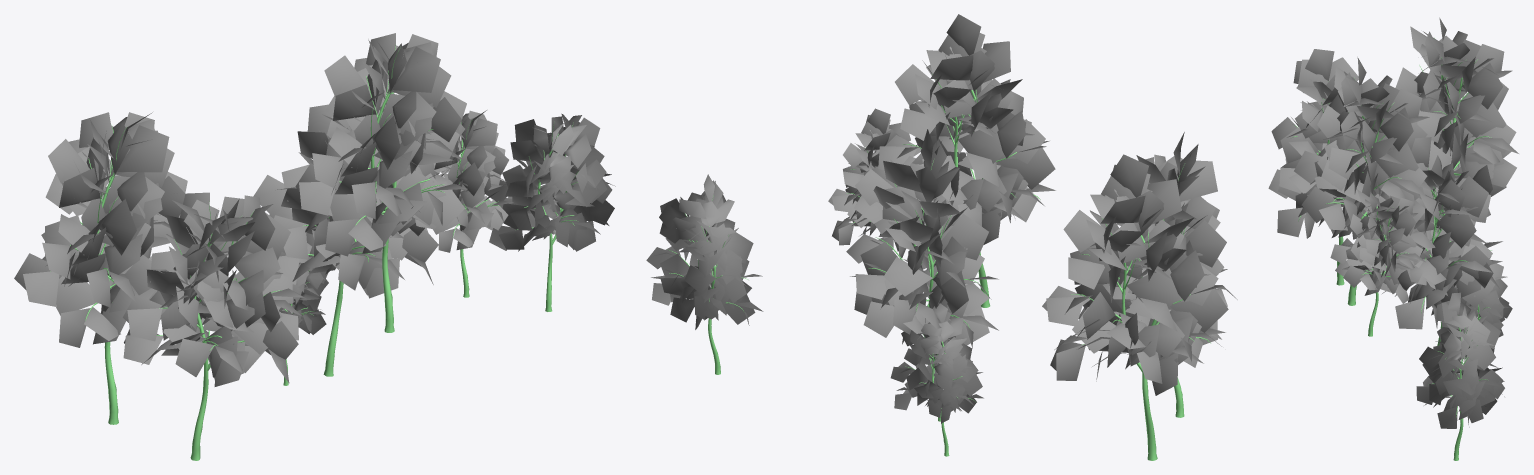
The model's file is Woods_Dawn_Trees_05.gltf.
3 views of the same model, side by side, from view 1: azimuth 30°, elevation 25°; view 2: azimuth 150°, elevation 25°; view 3: azimuth 270°, elevation 25° (orthographic). The views are drawn at different scales.
Visible parts, largest first — view 1: Woods_Dawn_Trees_05; view 2: Woods_Dawn_Trees_05; view 3: Woods_Dawn_Trees_05.
Boxes of the visible parts, box(x1,y1,x2,y2) form: Woods_Dawn_Trees_05: box(14, 33, 615, 460); Woods_Dawn_Trees_05: box(646, 14, 1237, 460); Woods_Dawn_Trees_05: box(1268, 17, 1518, 460).
Bounding box in the file's own units: 218 × 141 × 95.77.
